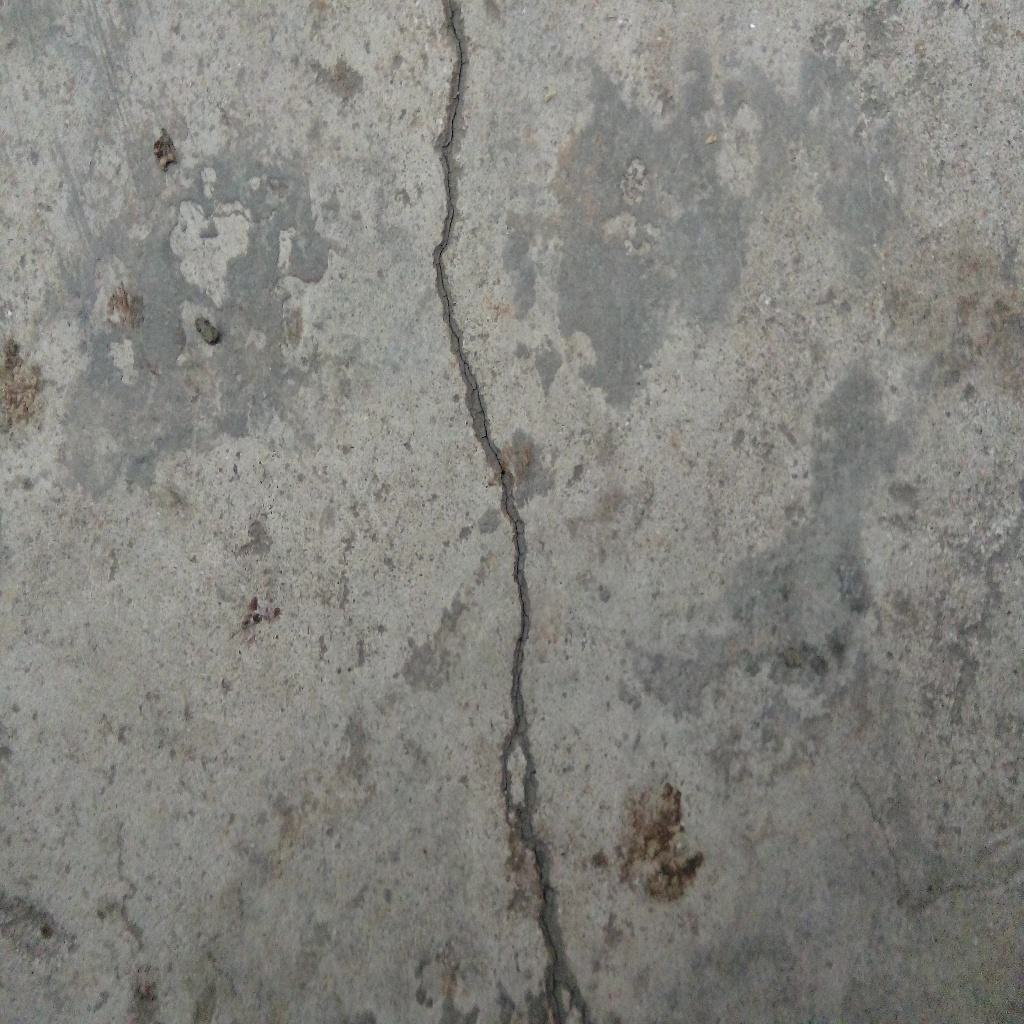Crack: (433, 1, 592, 1024)
